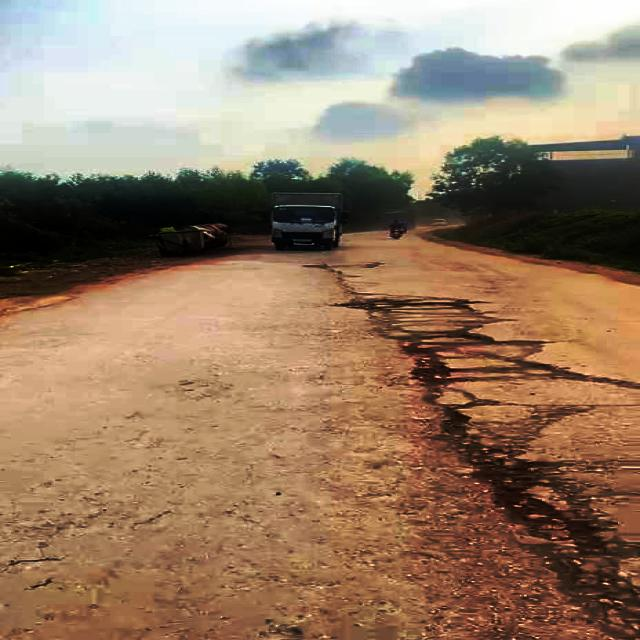pothole: (440, 410, 599, 549), (396, 333, 455, 398), (336, 290, 482, 313)
